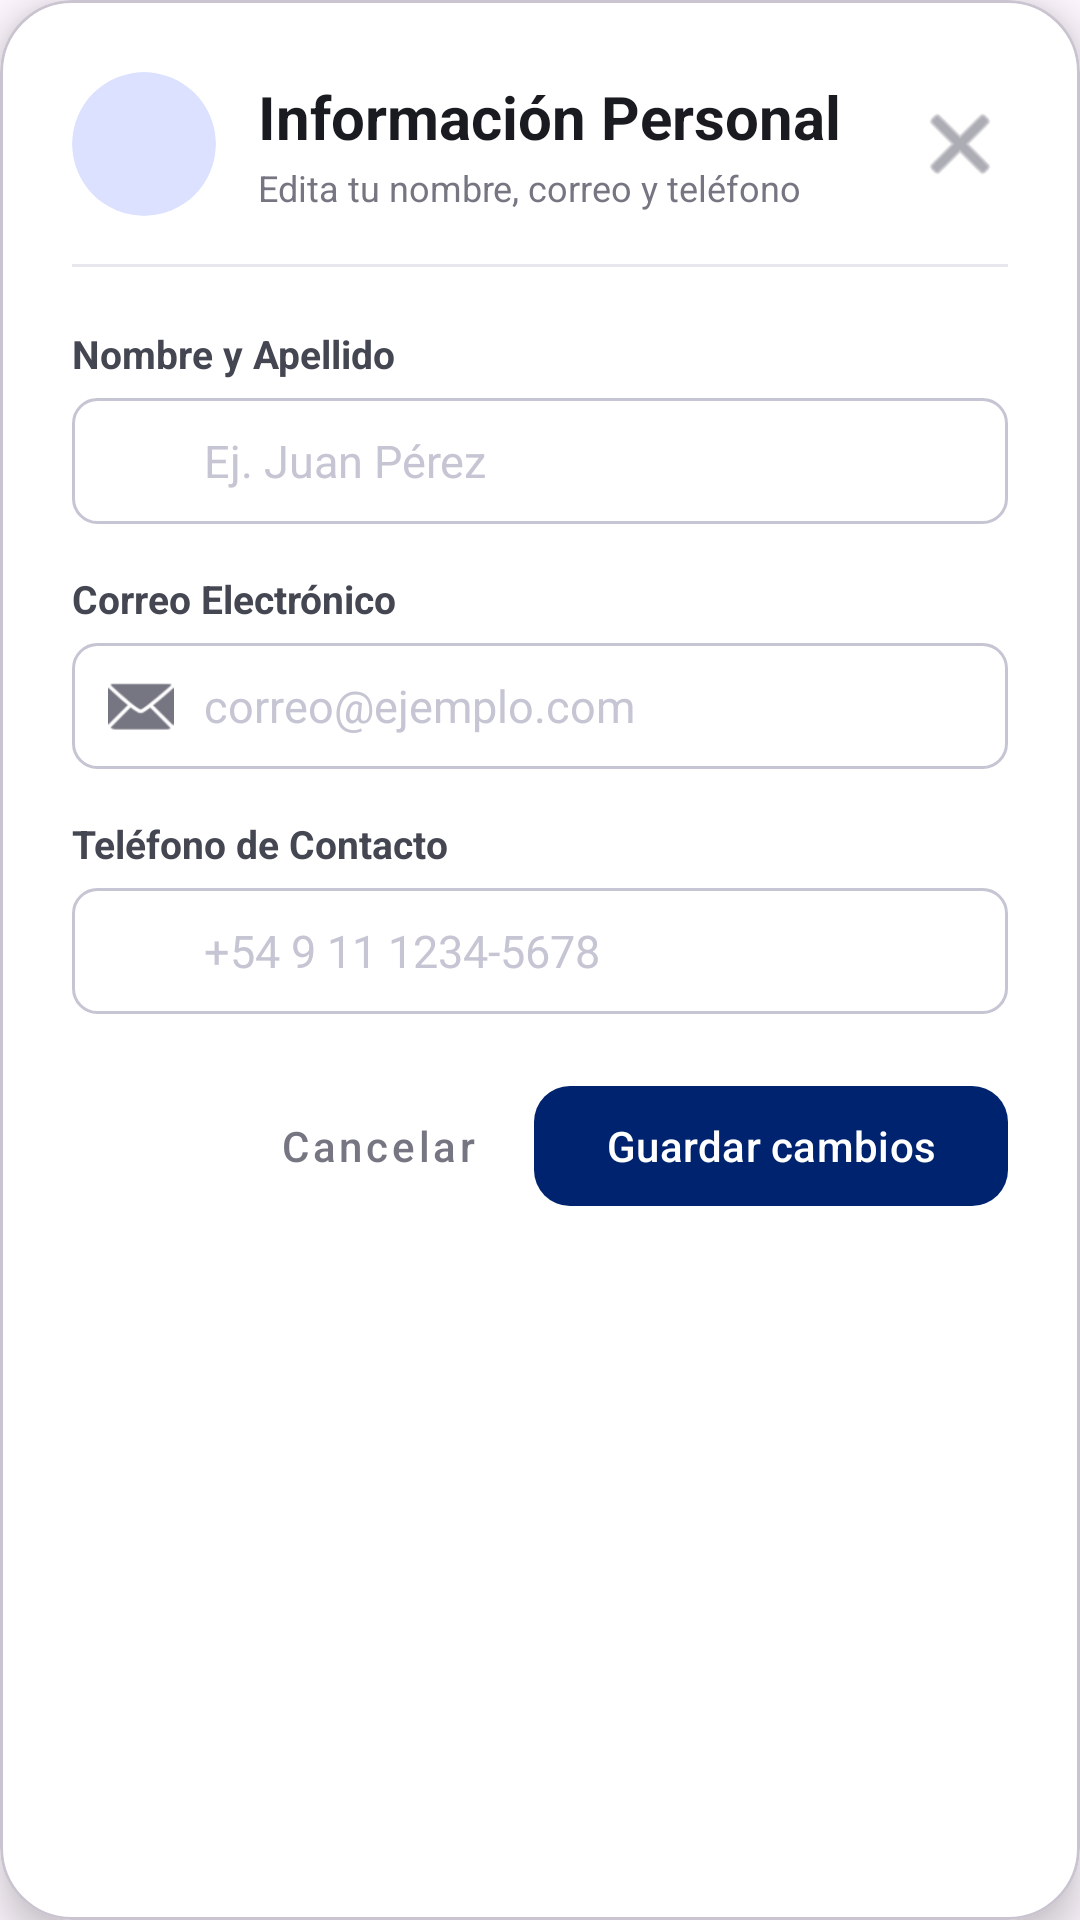

Screen size 1080 × 1920. Icon name, then its box in pixels as (x1, y1, x2, y2):
Cerrar: (930, 114, 990, 174)
email: (108, 683, 174, 730)
